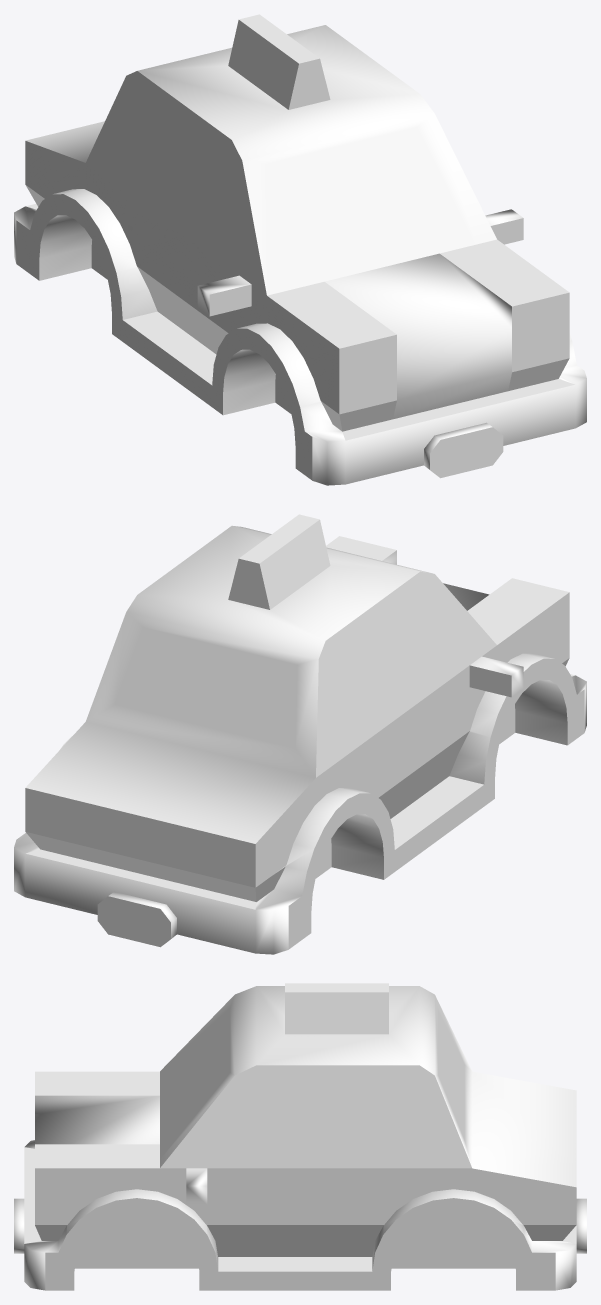
The model's file is taxi-vehicle.glb.
3 renders of one model, top to bottom at view 1: azimuth 30°, elevation 25°; view 2: azimuth 150°, elevation 25°; view 3: azimuth 270°, elevation 25°, orthographic. The views are drawn at different scales.
Parts seen in each view (by area): view 1: taxi-vehicle; view 2: taxi-vehicle; view 3: taxi-vehicle.
Part boxes in pixels (box(x1,y1,x2,y2)): taxi-vehicle: box(14, 14, 586, 485); taxi-vehicle: box(14, 514, 586, 954); taxi-vehicle: box(14, 983, 586, 1290).
Bounding box in the file's own units: 1.5 × 1.35 × 2.75.
Materials: 1 (1 with a texture image).
